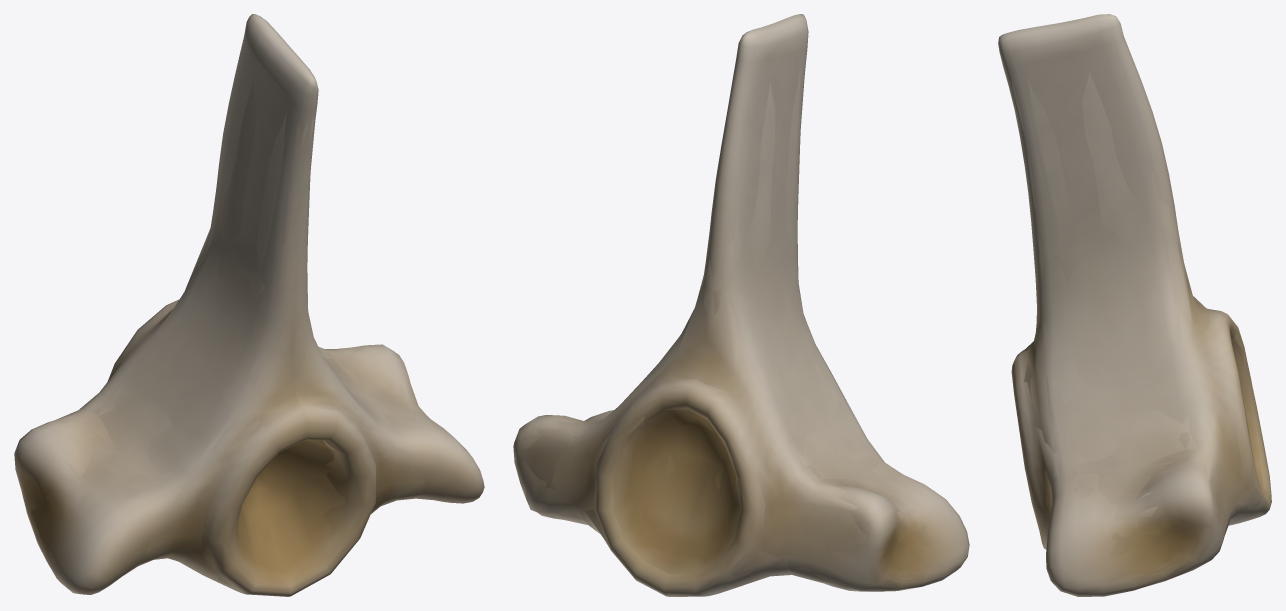
The model's file is vertebrae thoracicae 11.fbx.
The picture shows the model from 3 angles, left to right: view 1: azimuth 30°, elevation 25°; view 2: azimuth 150°, elevation 25°; view 3: azimuth 270°, elevation 25°; orthographic projection. The views are drawn at different scales.
Visible parts, largest first — view 1: vertebrae thoracicae 11, vertebrae thoracicae 11 low; view 2: vertebrae thoracicae 11, vertebrae thoracicae 11 low; view 3: vertebrae thoracicae 11, vertebrae thoracicae 11 low.
Boxes of the visible parts, left/top/right/bottom form: vertebrae thoracicae 11: left=14, top=14, right=484, bottom=596; vertebrae thoracicae 11 low: left=20, top=80, right=445, bottom=591; vertebrae thoracicae 11: left=513, top=14, right=969, bottom=596; vertebrae thoracicae 11 low: left=521, top=68, right=937, bottom=589; vertebrae thoracicae 11: left=998, top=14, right=1271, bottom=596; vertebrae thoracicae 11 low: left=1007, top=72, right=1263, bottom=580.
Bounding box in the file's own units: 5.01 × 6.53 × 3.05.
1 material, 1 textured.
